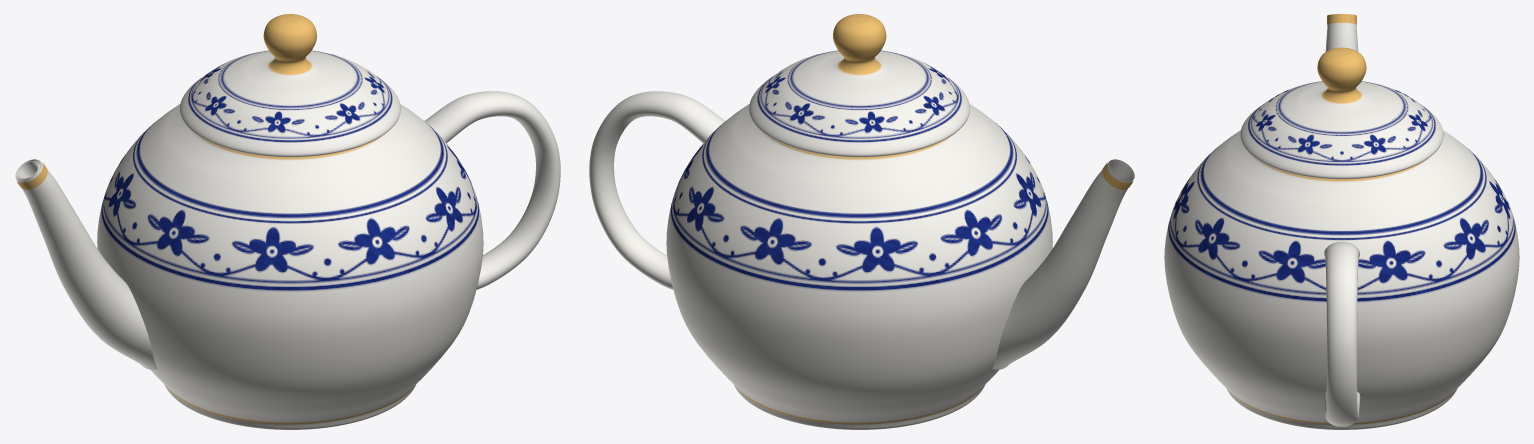
File: teapot.glb
The picture shows the model from 3 angles, left to right: view 1: azimuth 30°, elevation 25°; view 2: azimuth 150°, elevation 25°; view 3: azimuth 270°, elevation 25°; orthographic projection. The views are drawn at different scales.
Visible parts, largest first — view 1: teapot-body, teapot-lid, teapot-spout, teapot-handle; view 2: teapot-body, teapot-lid, teapot-spout, teapot-handle; view 3: teapot-body, teapot-lid, teapot-handle, teapot-spout.
Part boxes in pixels (box(x1,y1,x2,y2)): teapot-body: box(97, 104, 483, 429); teapot-lid: box(179, 14, 400, 157); teapot-spout: box(15, 159, 157, 369); teapot-handle: box(424, 91, 560, 289); teapot-body: box(666, 104, 1052, 429); teapot-lid: box(749, 14, 970, 157); teapot-spout: box(992, 159, 1134, 369); teapot-handle: box(589, 91, 725, 289); teapot-body: box(1164, 130, 1519, 429); teapot-lid: box(1240, 47, 1443, 179); teapot-handle: box(1323, 241, 1360, 426); teapot-spout: box(1325, 23, 1358, 51).
Bounding box in the file's own units: 0.276 × 0.1753 × 0.1708.
Materials: 4 (2 with a texture image).
